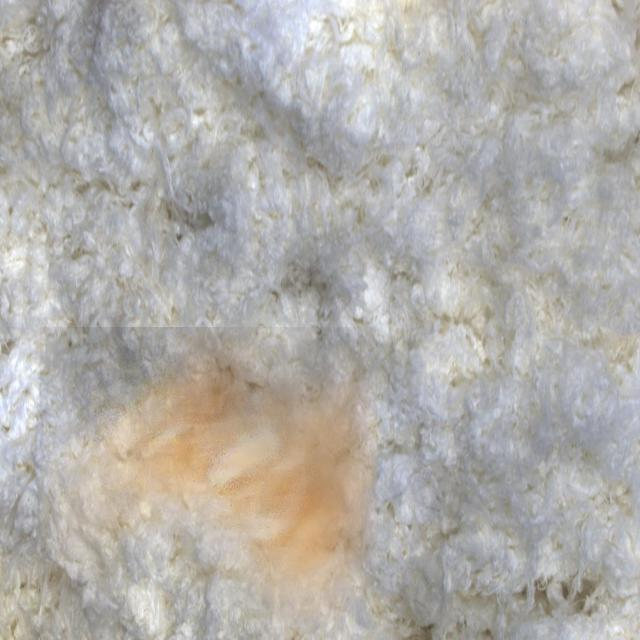dust: (40, 327, 378, 640)
